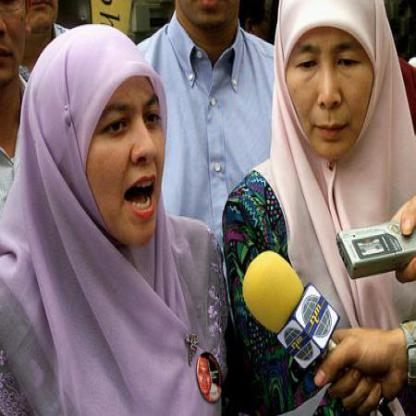face: (72, 40, 183, 253), (284, 1, 379, 162)
